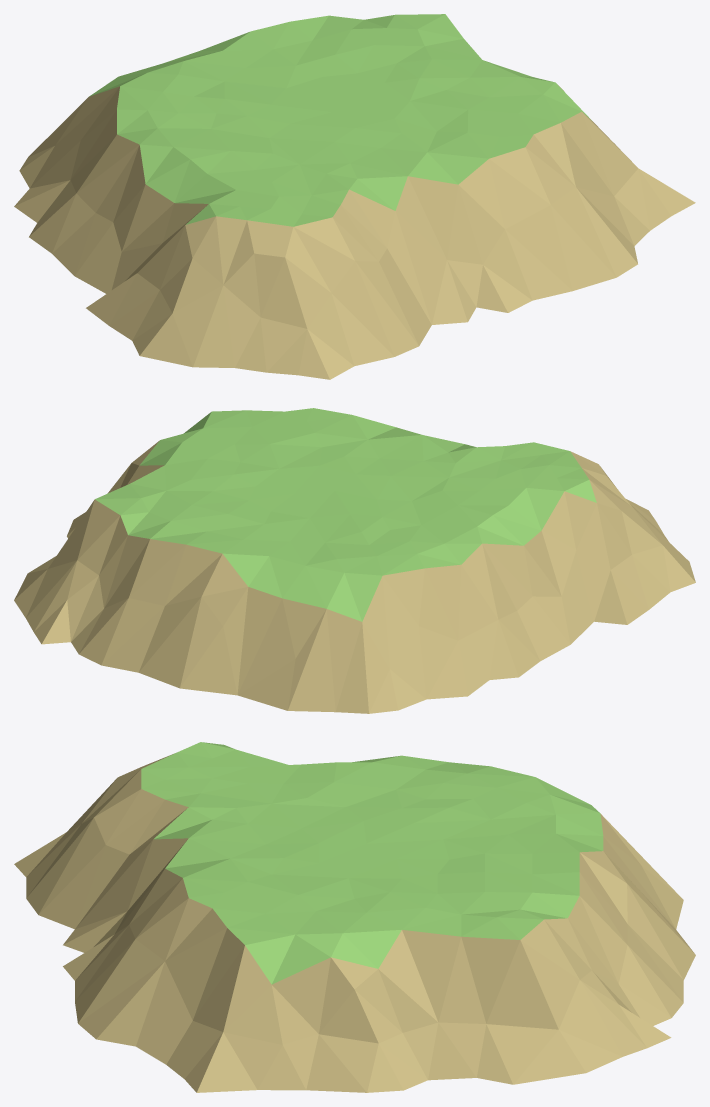
The model's file is CPT_Island_M_a_03_LOD.fbx.
3 views of the same model, one above another, from view 1: azimuth 30°, elevation 25°; view 2: azimuth 150°, elevation 25°; view 3: azimuth 270°, elevation 25° (orthographic). The views are drawn at different scales.
Parts seen in each view (by area): view 1: CPT_Island_M_a_03_LOD0; view 2: CPT_Island_M_a_03_LOD0; view 3: CPT_Island_M_a_03_LOD0.
Part boxes in pixels (bbox=[...]): CPT_Island_M_a_03_LOD0: bbox=[14, 14, 695, 379]; CPT_Island_M_a_03_LOD0: bbox=[14, 408, 695, 713]; CPT_Island_M_a_03_LOD0: bbox=[14, 742, 695, 1092].
Size of what is drawn, in the model's own units: 4578 by 798 by 4498.
